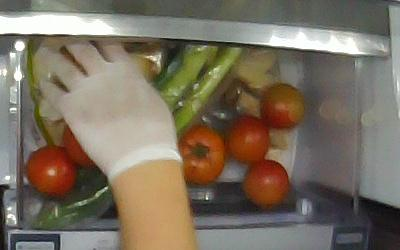tomato: (176, 125, 225, 184), (27, 145, 75, 197), (242, 161, 290, 207), (226, 117, 271, 163), (260, 84, 305, 129)
